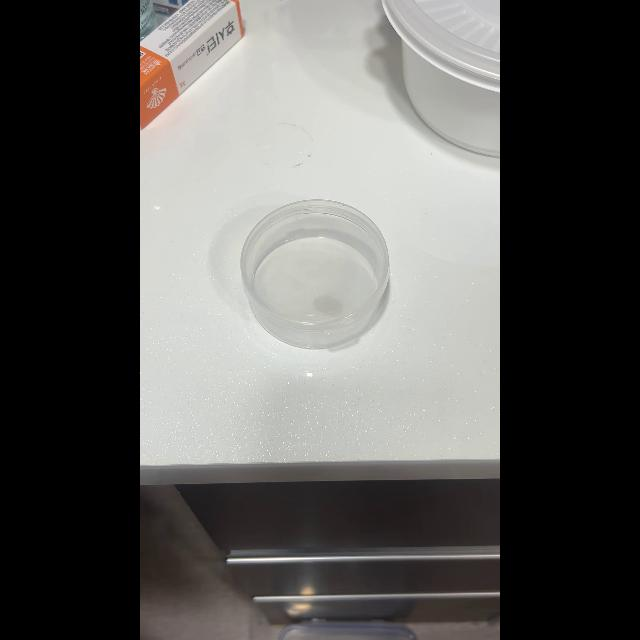clean: (242, 196, 394, 354)
